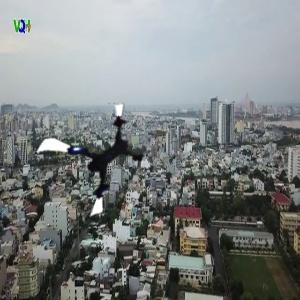drone: (46, 112, 152, 218)
